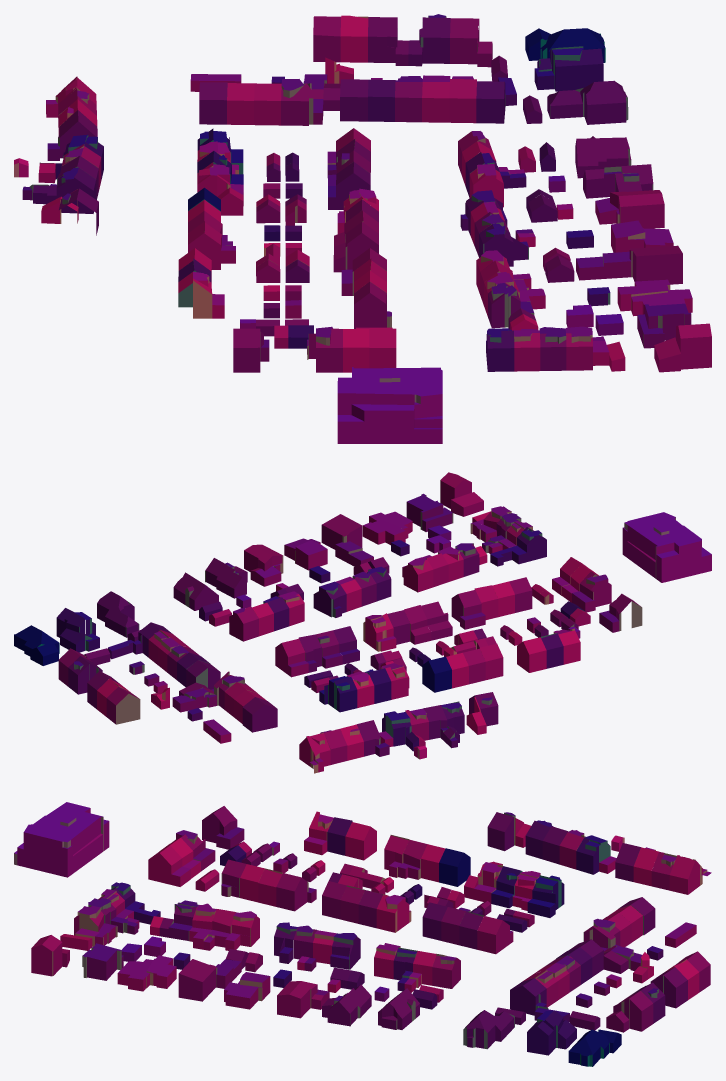
File: buildings_3_10.glb
3 renders of one model, top to bottom at view 1: azimuth 30°, elevation 25°; view 2: azimuth 150°, elevation 25°; view 3: azimuth 270°, elevation 25°, orthographic. The views are drawn at different scales.
Visible parts, largest first — view 1: buildings_3_10; view 2: buildings_3_10; view 3: buildings_3_10.
Boxes of the visible parts, x1=… form: buildings_3_10: x1=14, y1=14, x2=711, y2=443; buildings_3_10: x1=14, y1=472, x2=711, y2=773; buildings_3_10: x1=14, y1=802, x2=711, y2=1066.
Bounding box in the file's own units: 160 × 12.01 × 200.
